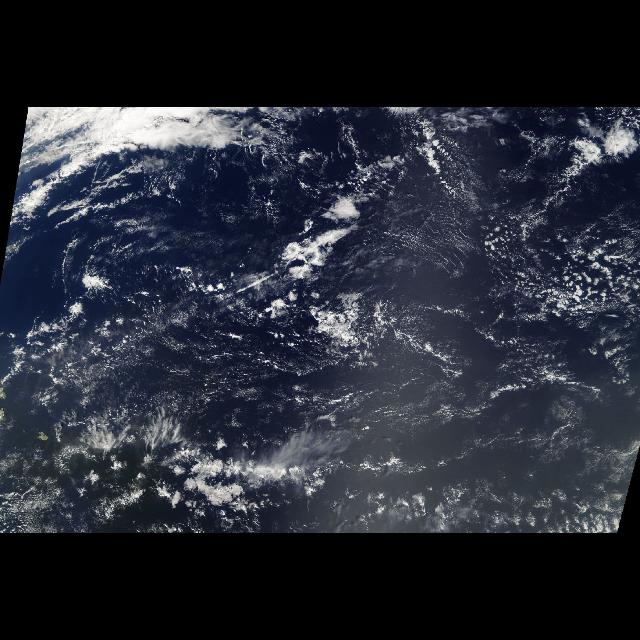Flower: (482, 217, 640, 329)
Sugar: (349, 196, 635, 507), (112, 298, 318, 418)
